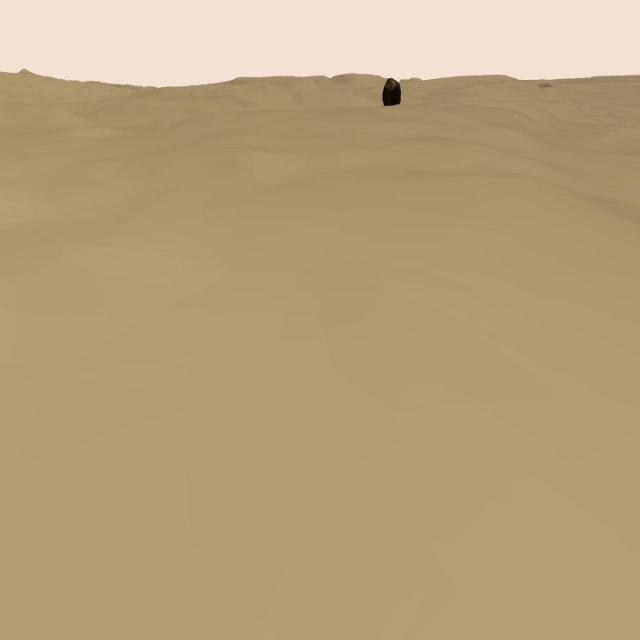rock: (382, 77, 400, 107)
